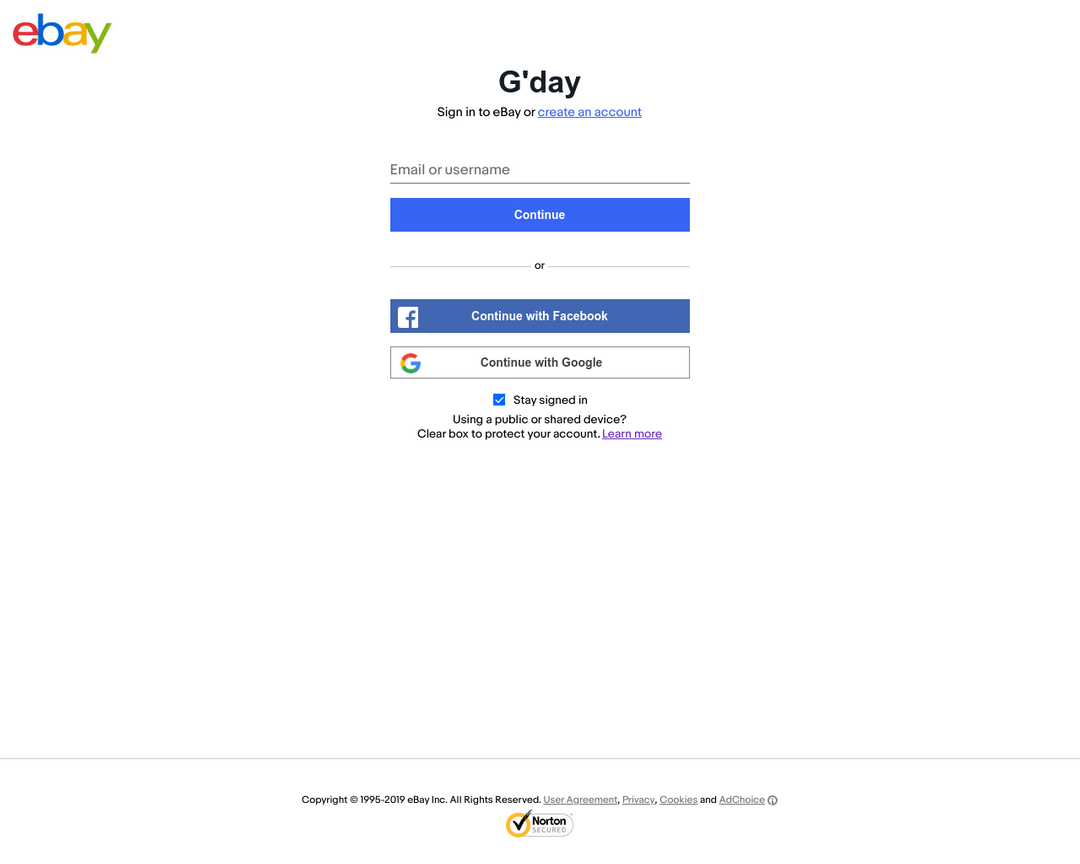Ebay: (10, 10, 114, 57)
Facebook: (396, 302, 424, 330)
Google: (394, 351, 426, 376)
